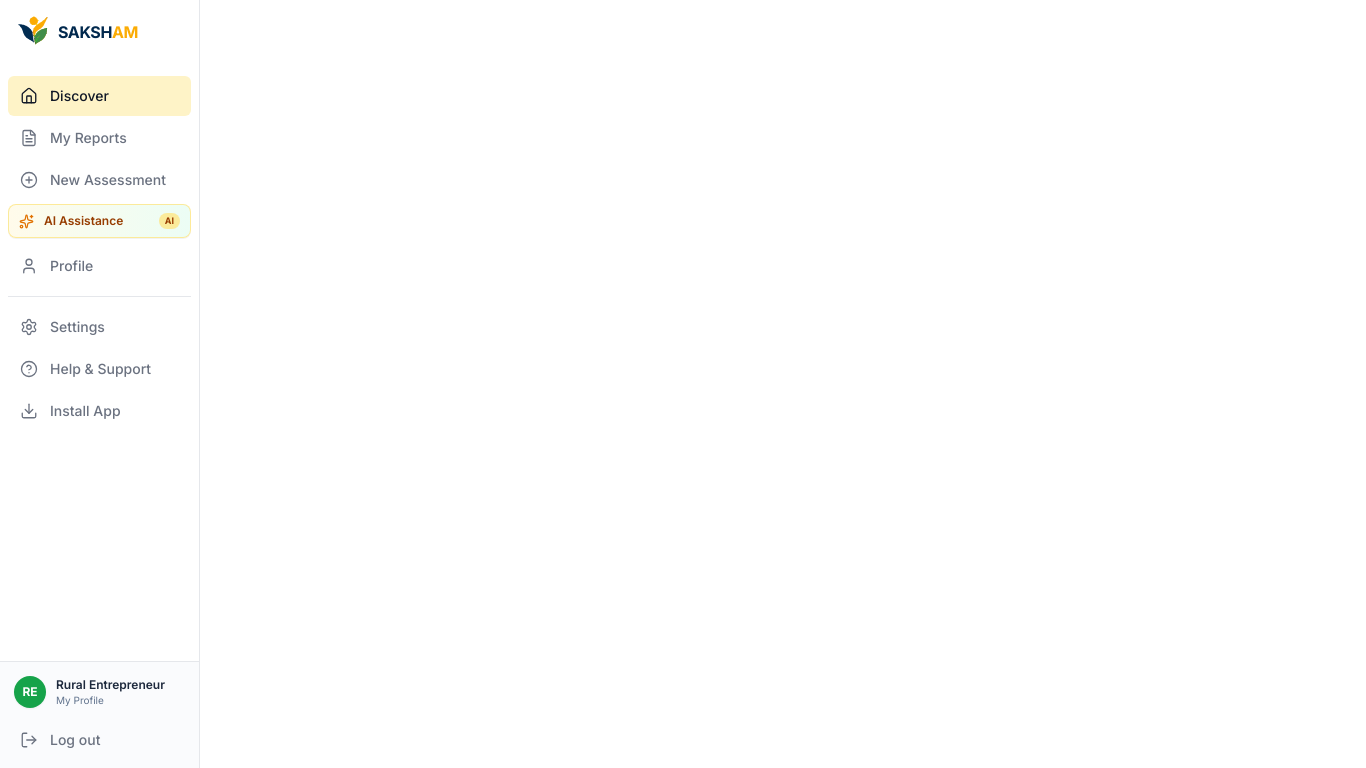
Test: Sidebar — user profile and logout modal › shows the confirmation modal when Log out is clicked
expect the text "Are you sure you want to log out?" is not shown: met
Click the button "Log out". click: (100,740)
box: [8, 720, 191, 760]
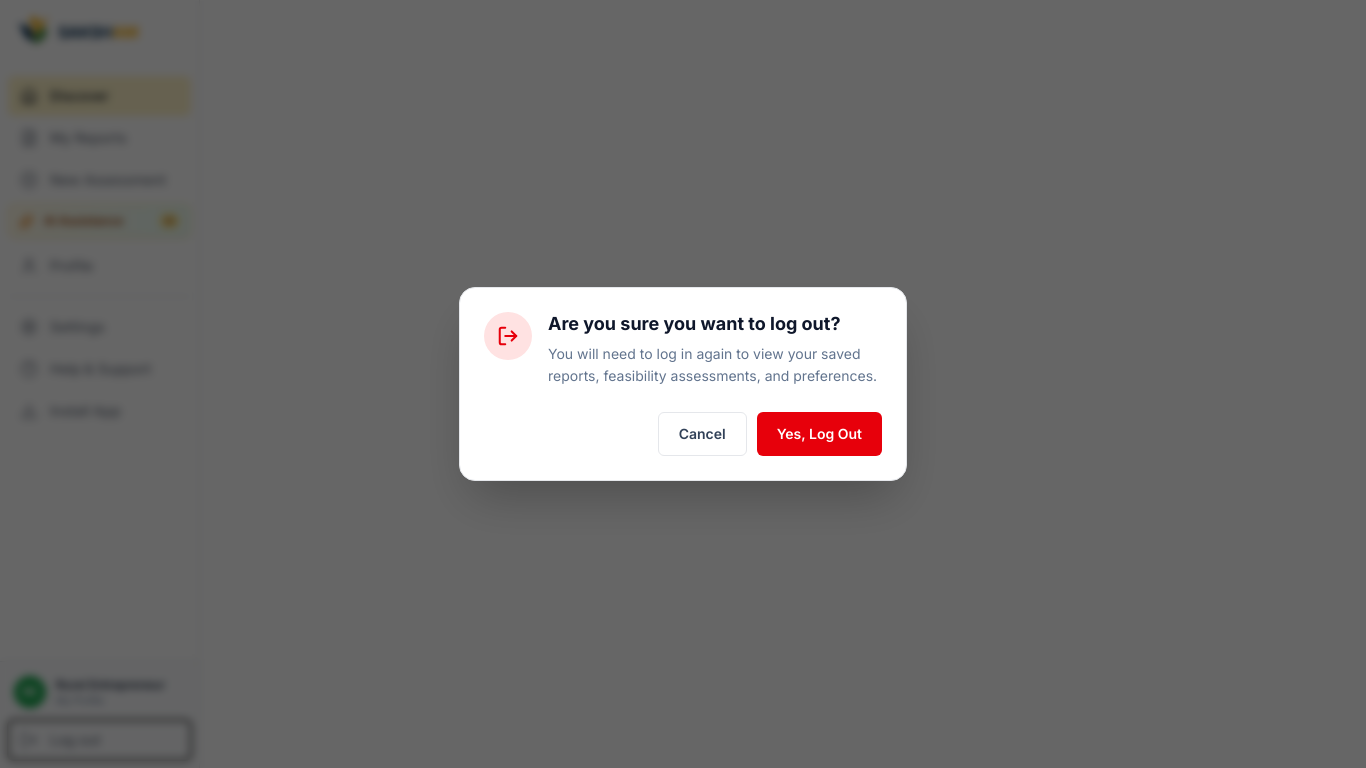
expect the heading "Are you sure you want to log out?" is shown: met, box [548, 312, 882, 337]
expect the button "Cancel" is shown: met, box [658, 412, 747, 456]
expect the button "Yes, Log Out" is shown: met, box [757, 412, 882, 456]
